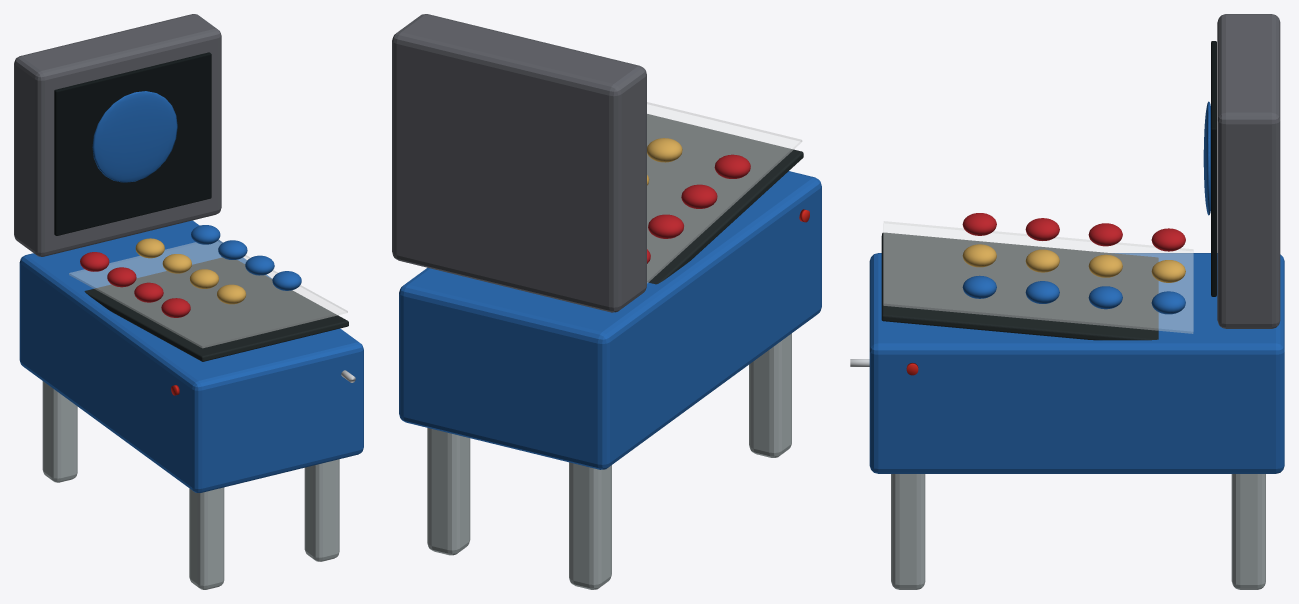
Rendered from hiperreal.glb.
The picture shows the model from 3 angles, left to right: view 1: azimuth 30°, elevation 25°; view 2: azimuth 150°, elevation 25°; view 3: azimuth 270°, elevation 25°; orthographic projection. The views are drawn at different scales.
Parts seen in each view (by area): view 1: Pinball cabinet, Backbox, Backglass, Playfield, Hiperreal cristal del tablero, Planet, Leg.001, Leg.003, Leg, Bumper.006, Bumper.001, Bumper.003 (+9 smaller); view 2: Pinball cabinet, Backbox, Playfield, Hiperreal cristal del tablero, Leg.002, Leg, Leg.001, Bumper.006, Bumper.003, Bumper.010, Bumper.009; view 3: Pinball cabinet, Hiperreal cristal del tablero, Playfield, Backbox, Leg.002, Leg.003, Backglass, Planet, Bumper, Bumper.002, Bumper.010, Bumper.007 (+8 smaller).
Part boxes in pixels (bbox=[...]): Pinball cabinet: bbox=[19, 220, 363, 492]; Backbox: bbox=[14, 14, 221, 256]; Backglass: bbox=[54, 52, 211, 235]; Playfield: bbox=[84, 257, 348, 361]; Hiperreal cristal del tablero: bbox=[69, 240, 347, 347]; Planet: bbox=[92, 91, 177, 182]; Leg.001: bbox=[189, 487, 224, 589]; Leg.003: bbox=[304, 459, 339, 561]; Leg: bbox=[42, 381, 77, 482]; Bumper.006: bbox=[134, 282, 163, 302]; Bumper.001: bbox=[135, 238, 164, 258]; Bumper.003: bbox=[107, 267, 136, 287]; Pinball cabinet: bbox=[399, 171, 821, 469]; Backbox: bbox=[392, 14, 646, 312]; Playfield: bbox=[647, 114, 803, 284]; Hiperreal cristal del tablero: bbox=[647, 102, 801, 283]; Leg.002: bbox=[427, 428, 470, 555]; Leg: bbox=[569, 462, 611, 589]; Leg.001: bbox=[749, 333, 791, 457]; Bumper.006: bbox=[681, 184, 717, 208]; Bumper.003: bbox=[648, 214, 683, 238]; Bumper.010: bbox=[647, 138, 682, 162]; Bumper.009: bbox=[714, 154, 750, 178]; Pinball cabinet: bbox=[869, 253, 1284, 473]; Hiperreal cristal del tablero: bbox=[883, 221, 1193, 333]; Playfield: bbox=[881, 232, 1158, 340]; Backbox: bbox=[1217, 14, 1280, 328]; Leg.002: bbox=[1231, 474, 1265, 589]; Leg.003: bbox=[891, 474, 925, 589]; Backglass: bbox=[1211, 41, 1216, 296]; Planet: bbox=[1203, 101, 1210, 215]; Bumper: bbox=[1151, 228, 1185, 251]; Bumper.002: bbox=[1151, 291, 1185, 314]; Bumper.010: bbox=[962, 244, 996, 267]; Bumper.007: bbox=[1025, 249, 1059, 272].
Size of the model in its own units: 0.6 by 1.3 by 1.05.
